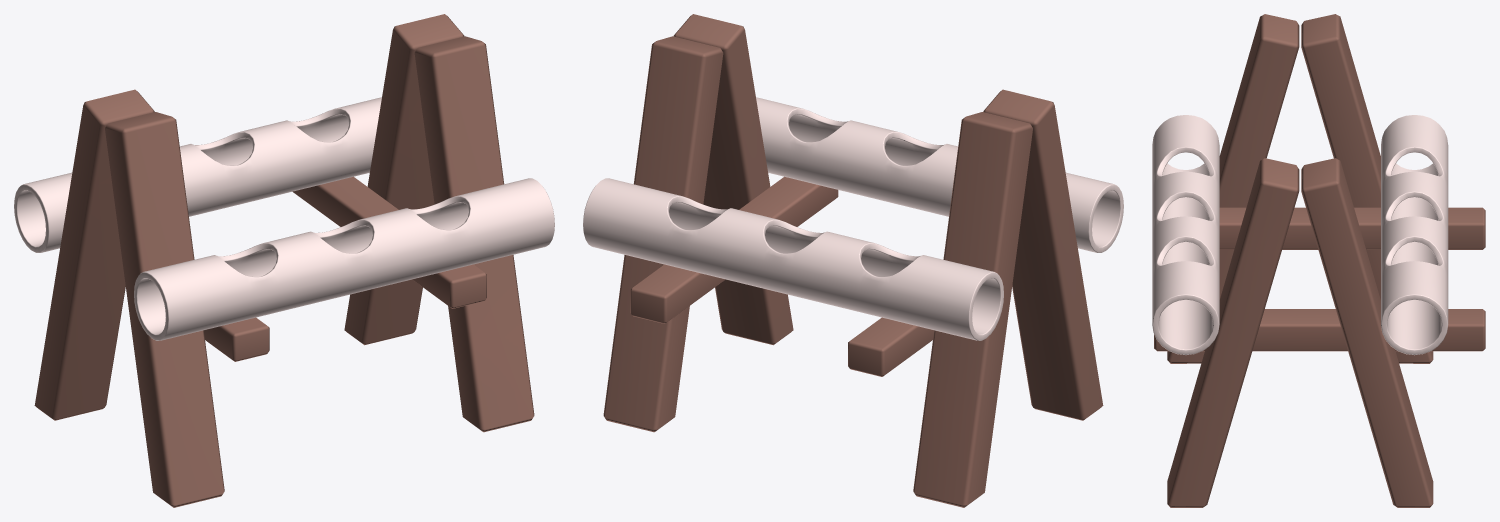
Rendered from Farm_20_Stand_for_Plants_1.glb.
3 views of the same model, side by side, from view 1: azimuth 30°, elevation 25°; view 2: azimuth 150°, elevation 25°; view 3: azimuth 270°, elevation 25° (orthographic). The views are drawn at different scales.
Parts seen in each view (by area): view 1: Farm_20_Stand_for_Plants_1; view 2: Farm_20_Stand_for_Plants_1; view 3: Farm_20_Stand_for_Plants_1.
Part boxes in pixels (x1=…): Farm_20_Stand_for_Plants_1: x1=14, y1=14, x2=554, y2=507; Farm_20_Stand_for_Plants_1: x1=583, y1=14, x2=1123, y2=507; Farm_20_Stand_for_Plants_1: x1=1152, y1=14, x2=1485, y2=507.
Size of the model in its own units: 1.59 by 1.35 by 1.24.
Materials: 1 (1 with a texture image).
